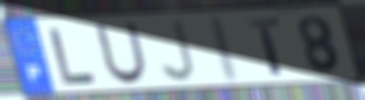8: (298, 14, 343, 75)
I: (209, 13, 242, 85)
J: (157, 18, 197, 83)
L: (46, 26, 100, 87)
T: (245, 16, 285, 77)
U: (92, 21, 149, 86)
